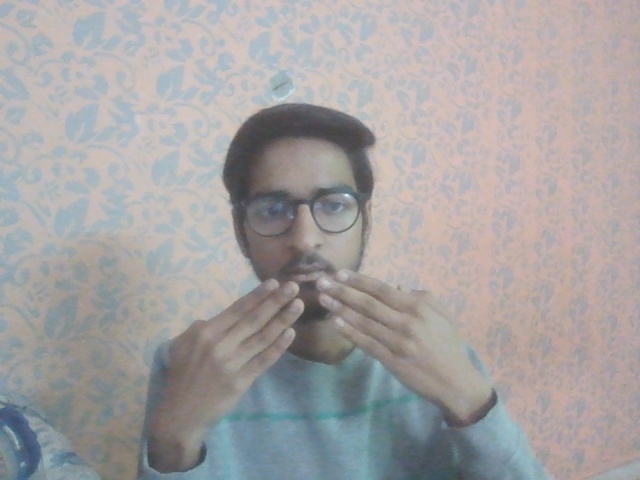ThankYou: (154, 265, 480, 439)
